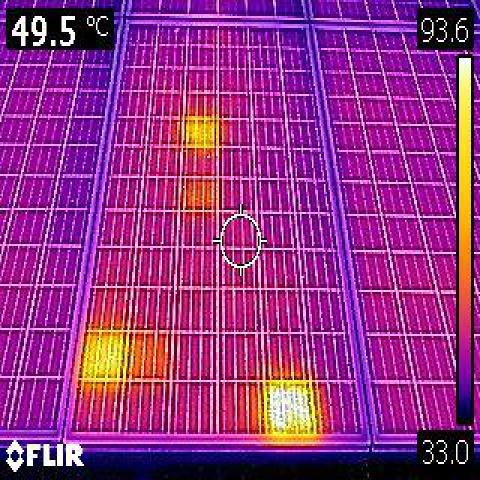fault: (79, 330, 129, 396), (269, 375, 319, 439), (185, 118, 215, 146)
